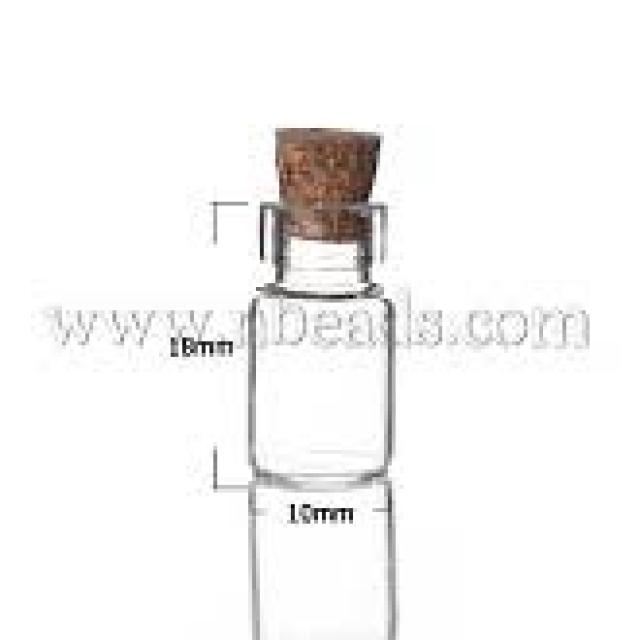glass: (248, 229, 392, 636)
